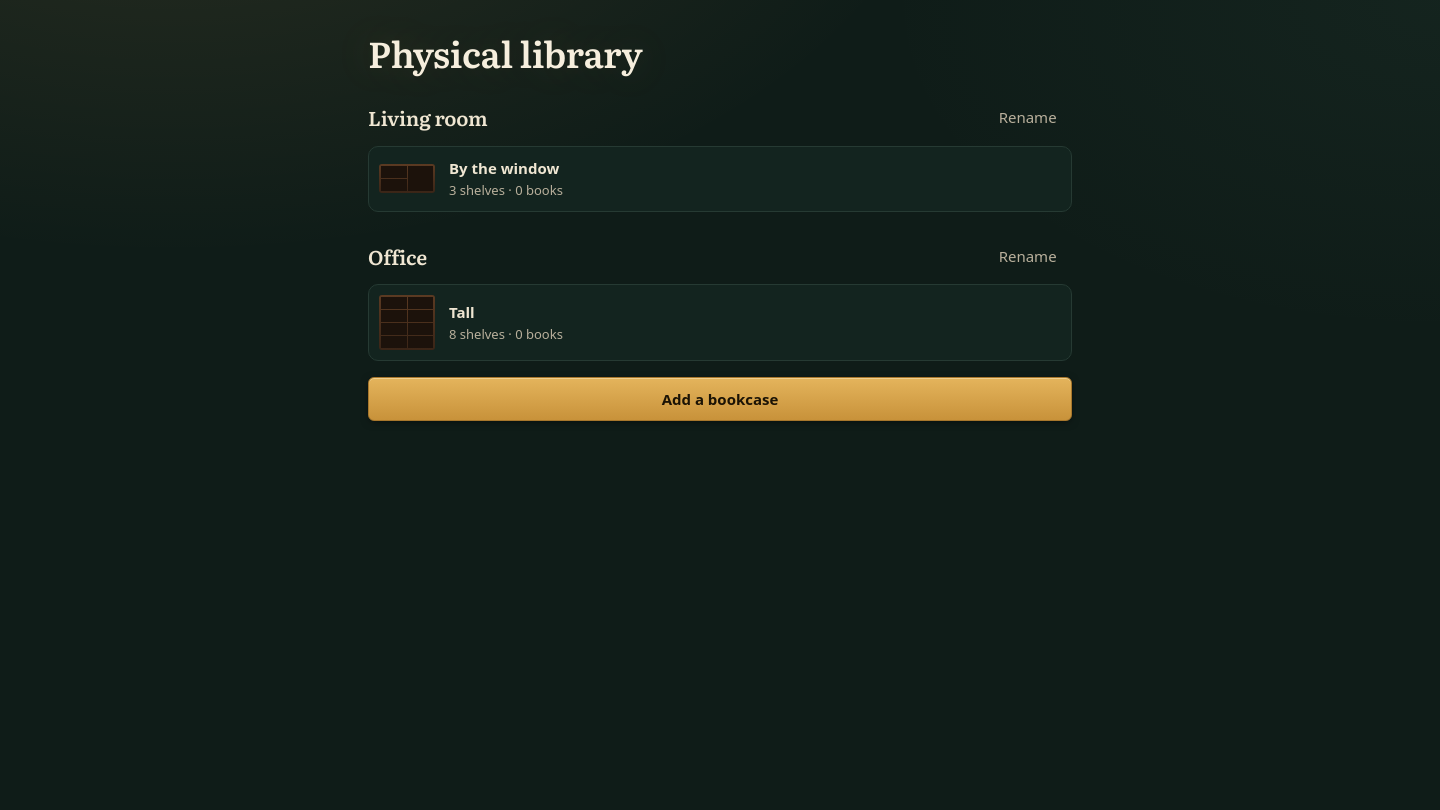
your home › aRoomCanBeRenamed
Click the button with aria-label "Rename room Living room" at (1028, 118), box [983,97,1072,138]
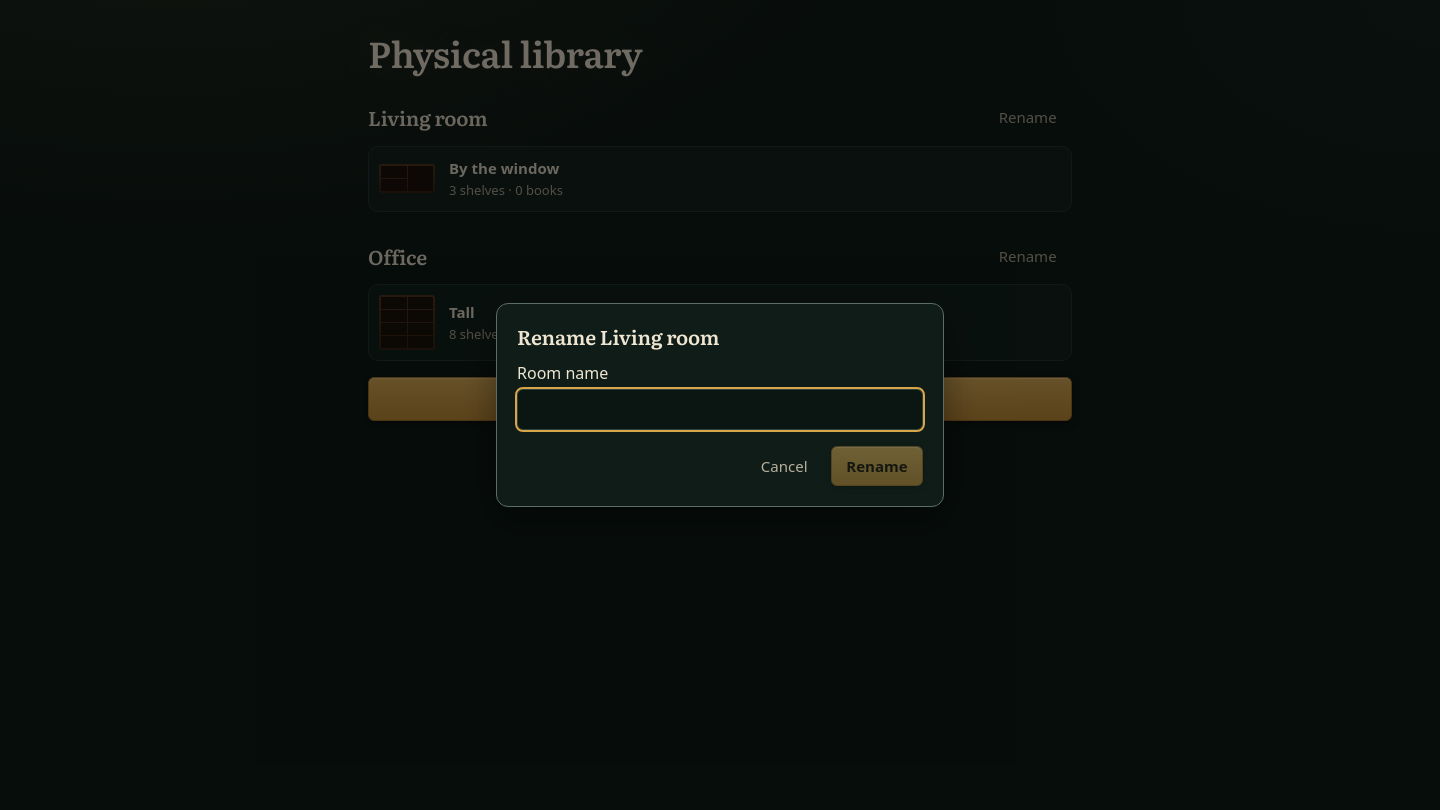
Type " Lounge " into the field labelled "Room name" at (720, 409), box [517,389,923,430]
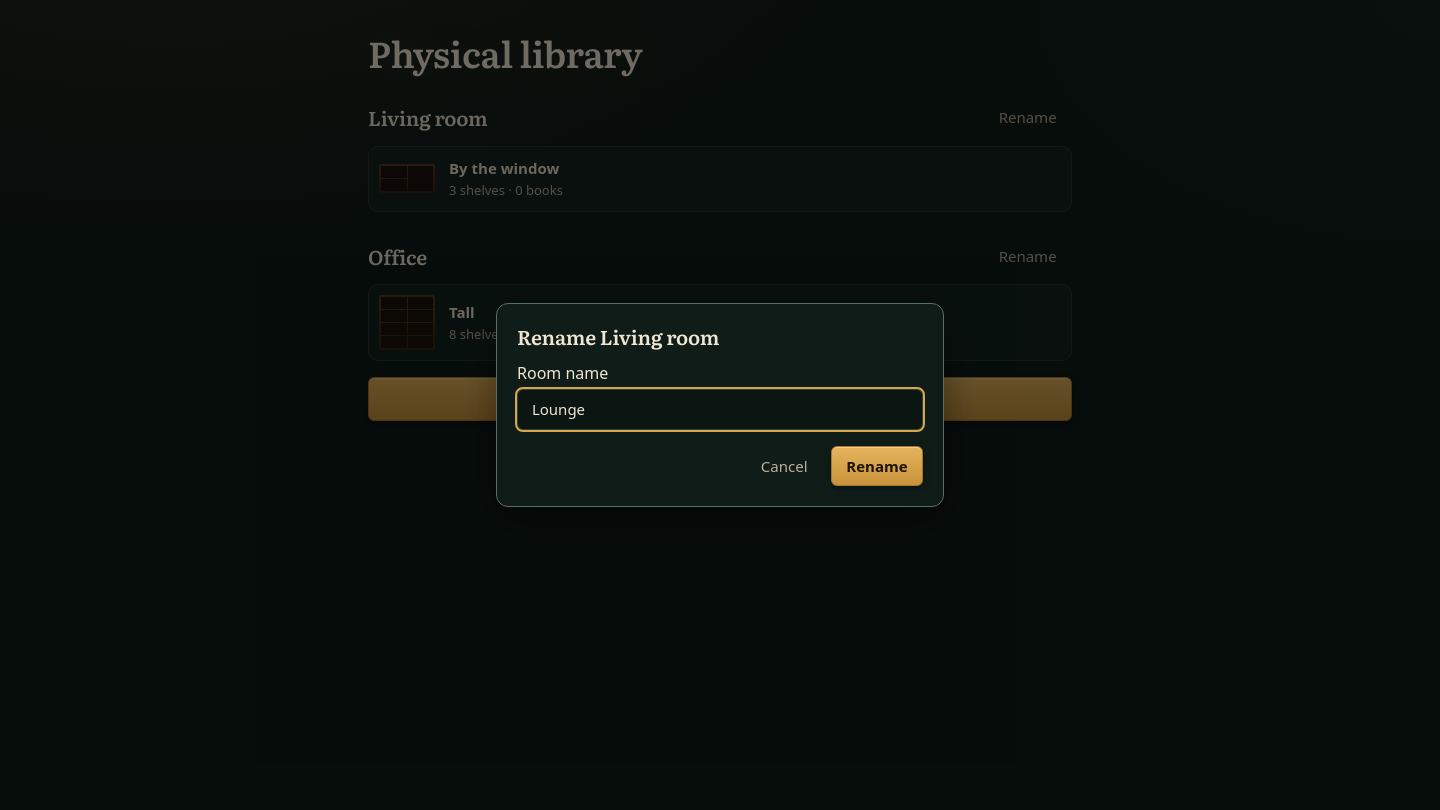
Click the button "Rename" at (877, 466), box [831,446,923,486]
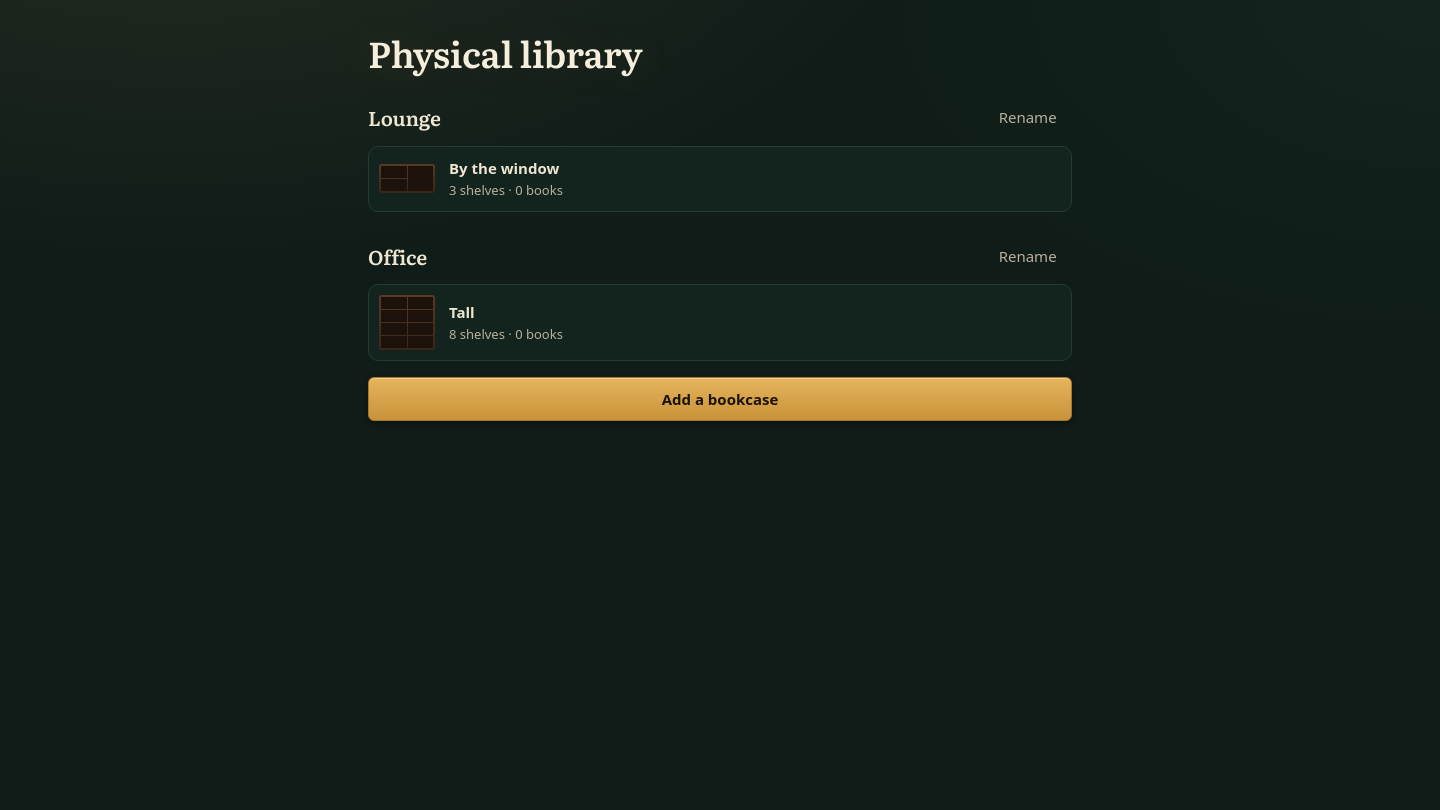
expect the heading "Office" is shown: met, box [368,244,427,269]
expect the heading "Lounge" is shown: met, box [368,105,441,130]
